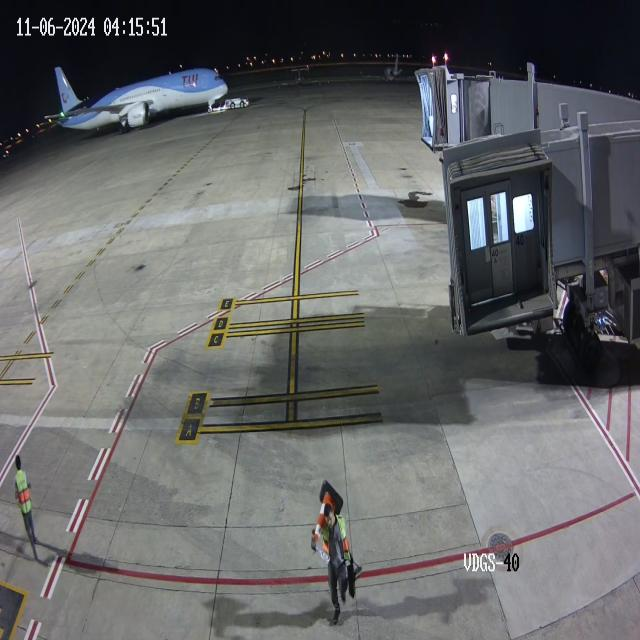bridge: (434, 66, 492, 151)
plane: (38, 1, 252, 143)
window: (213, 73, 226, 83)
